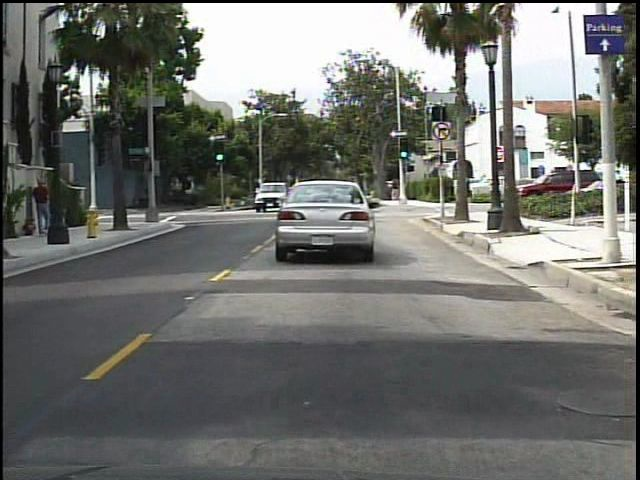person: (28, 176, 56, 243)
